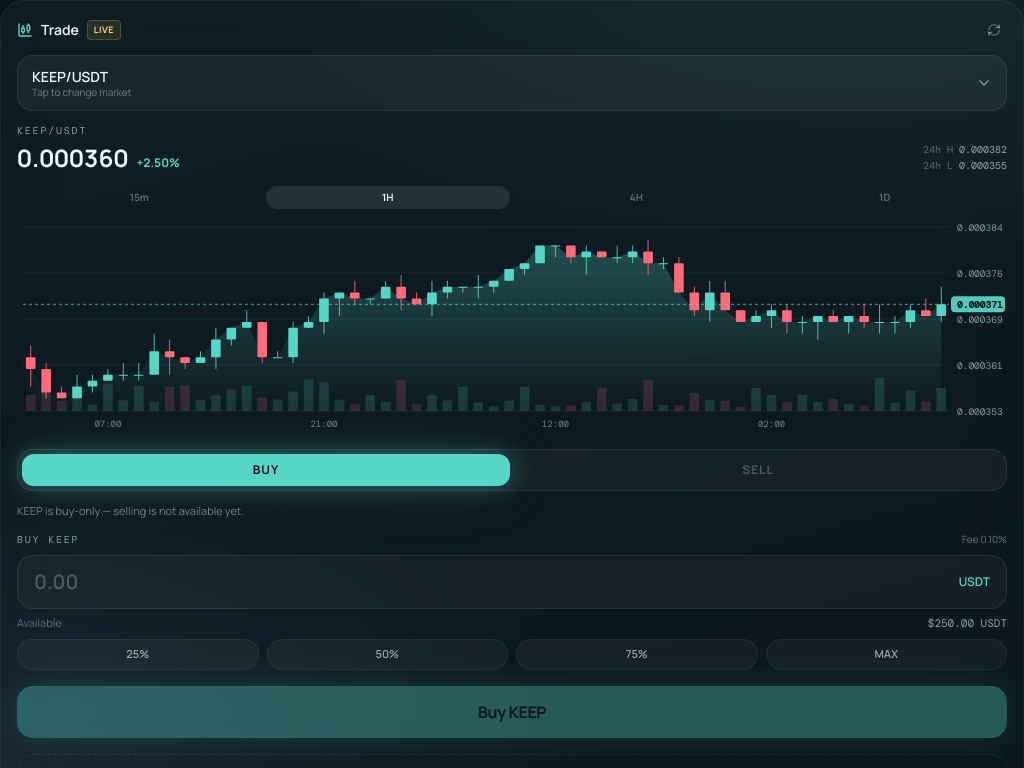
Scenario: Trade panel con KEEP › compra KEEP: debita USDT con fee y acredita el saldo (sin abrir posición)
Earlier steps of the test are not shown.
Expected: the text with test id "trade-available-value" shows "$250.00", top-left (928, 616), bottom-right (974, 630)
Type "10" into the number field with test id "trade-amount-input" at (492, 582), box top-left (34, 568), bottom-right (951, 596)
(page scrolled)
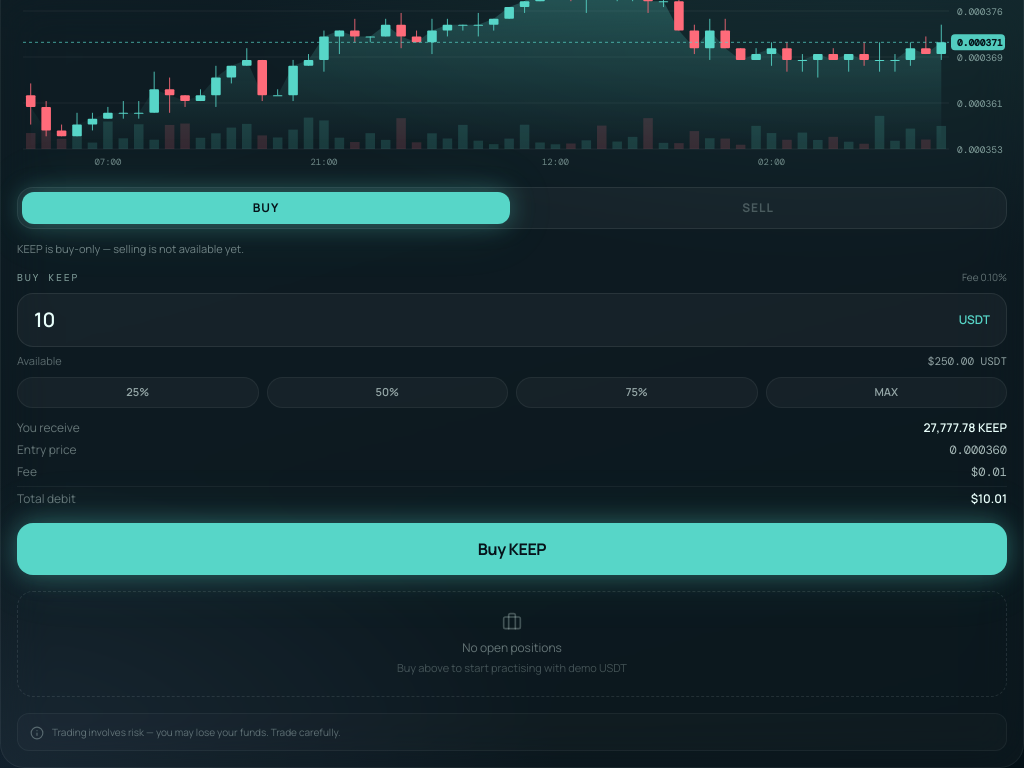
Expected: the text with test id "trade-preview-qty" reads "27,777.78 KEEP", top-left (924, 420), bottom-right (1007, 436)
Click the button with test id "trade-buy-submit" at (512, 548), box top-left (17, 522), bottom-right (1007, 574)
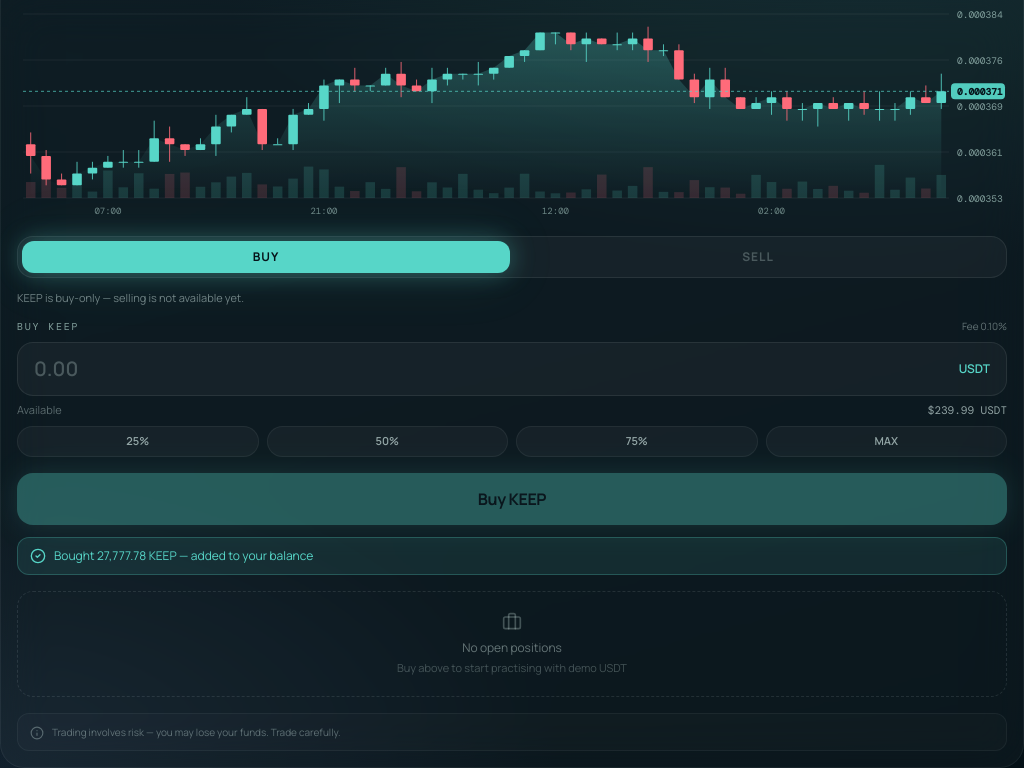
Expected: the element with test id "trade-order-result" shows "added to your balance", top-left (177, 546), bottom-right (313, 564)
